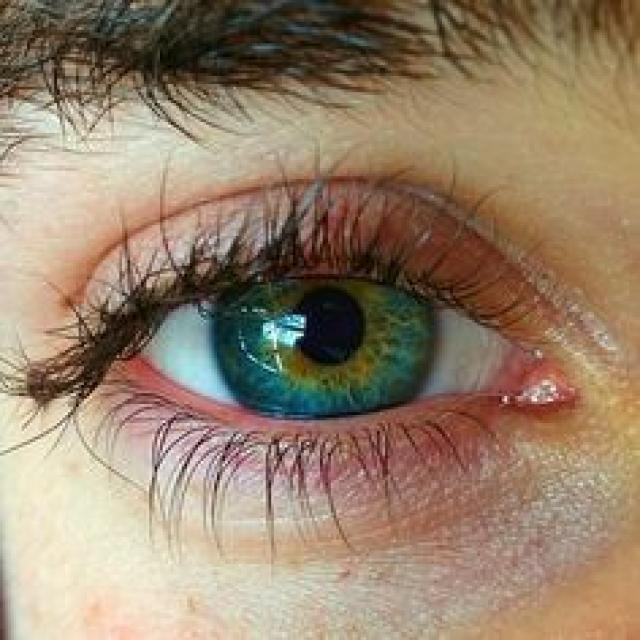Normal: (3, 122, 640, 573)
